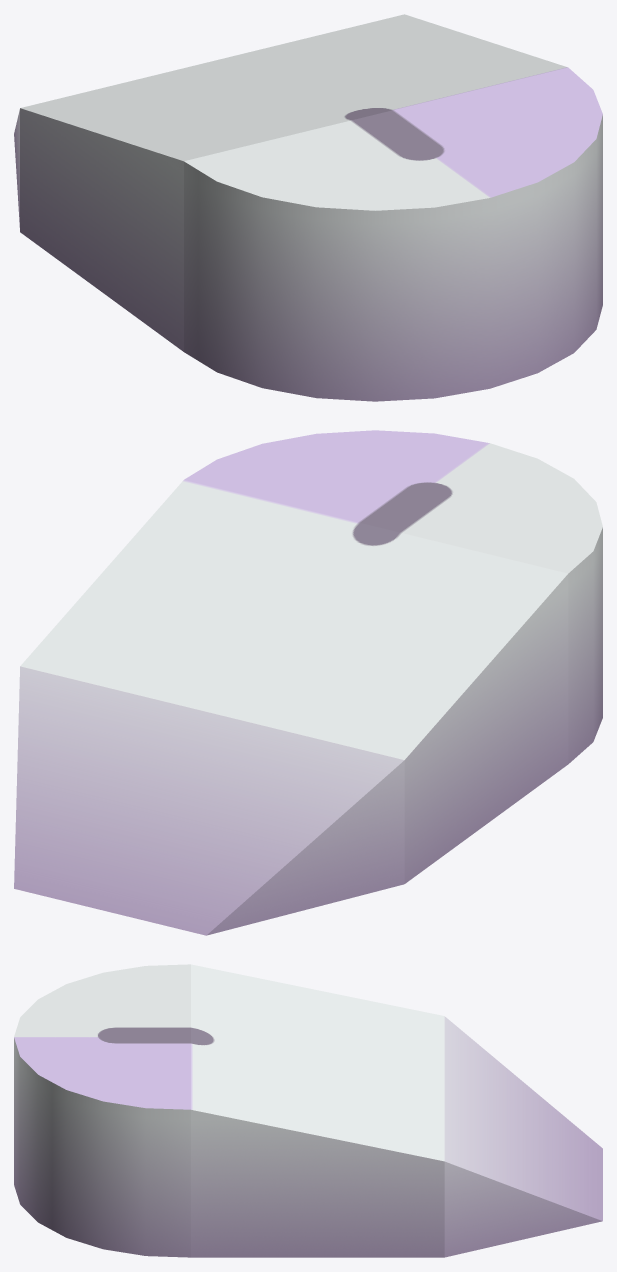
Rendered from computerMouse.fbx.
The picture shows the model from 3 angles, top to bottom: view 1: azimuth 30°, elevation 25°; view 2: azimuth 150°, elevation 25°; view 3: azimuth 270°, elevation 25°; orthographic projection. The views are drawn at different scales.
Visible parts, largest first — view 1: computerMouse1; view 2: computerMouse1; view 3: computerMouse1.
Part boxes in pixels (box(x1,y1,x2,y2)): computerMouse1: box(14, 14, 602, 401); computerMouse1: box(14, 430, 602, 935); computerMouse1: box(14, 964, 602, 1257).
Bounding box in the file's own units: 11.55 × 5.48 × 19.77.
